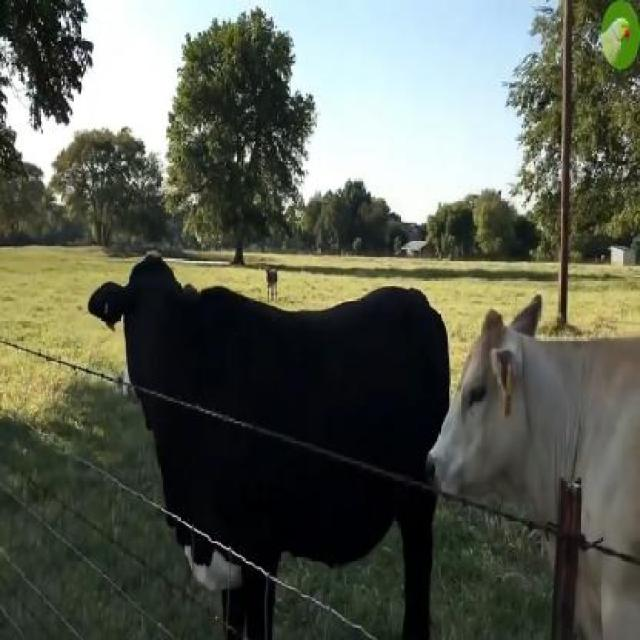Cow: (88, 254, 449, 638)
